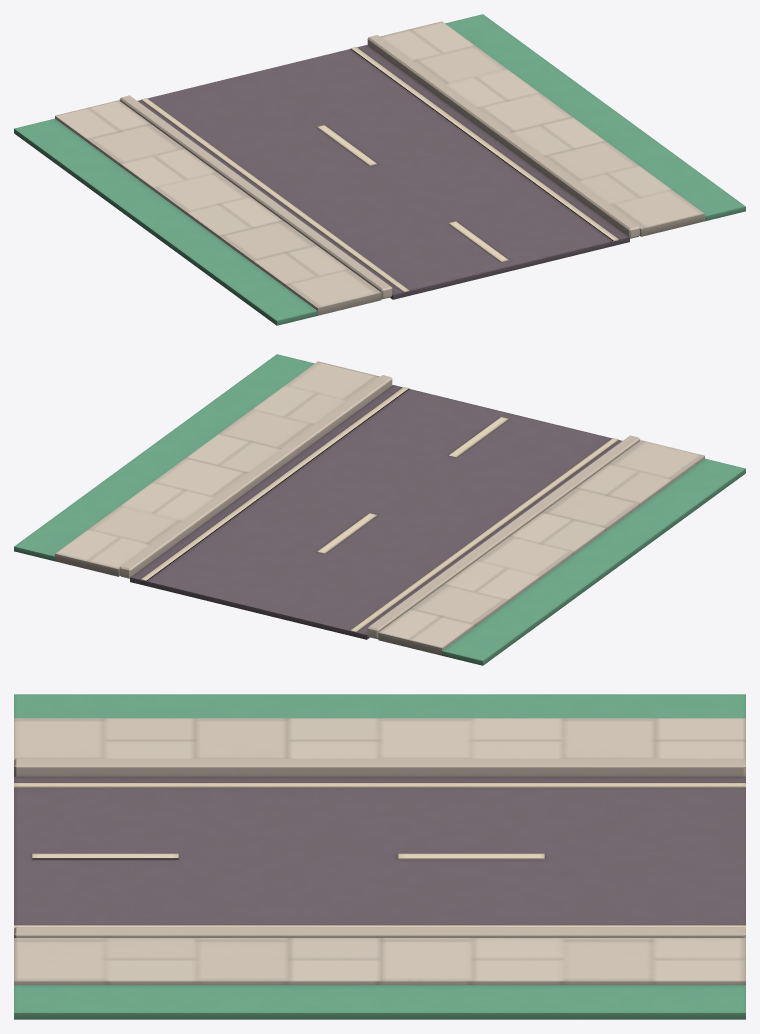
File: StartKit_Road.fbx
The picture shows the model from 3 angles, top to bottom: view 1: azimuth 30°, elevation 25°; view 2: azimuth 150°, elevation 25°; view 3: azimuth 270°, elevation 25°; orthographic projection. The views are drawn at different scales.
Visible parts, largest first — view 1: Road.001; view 2: Road.001; view 3: Road.001.
Boxes of the visible parts, x1,y1,x2,y2 form: Road.001: (14, 14, 745, 325); Road.001: (14, 354, 745, 665); Road.001: (14, 694, 745, 1019).
Bounding box in the file's own units: 10.3 × 0.27 × 10.
Materials: 1 (1 with a texture image).
